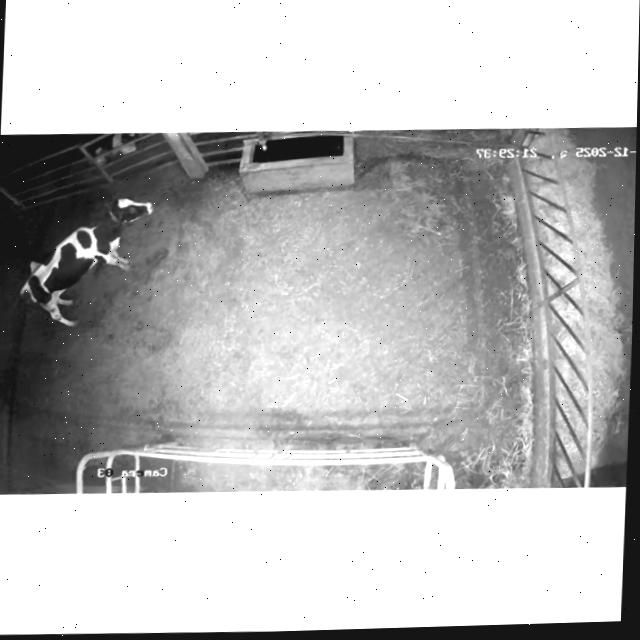stand: (10, 182, 178, 348)
